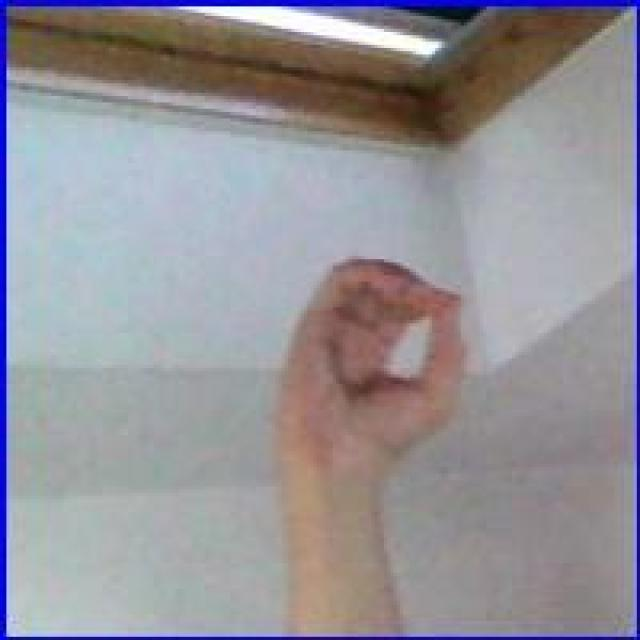O: (272, 252, 480, 506)
